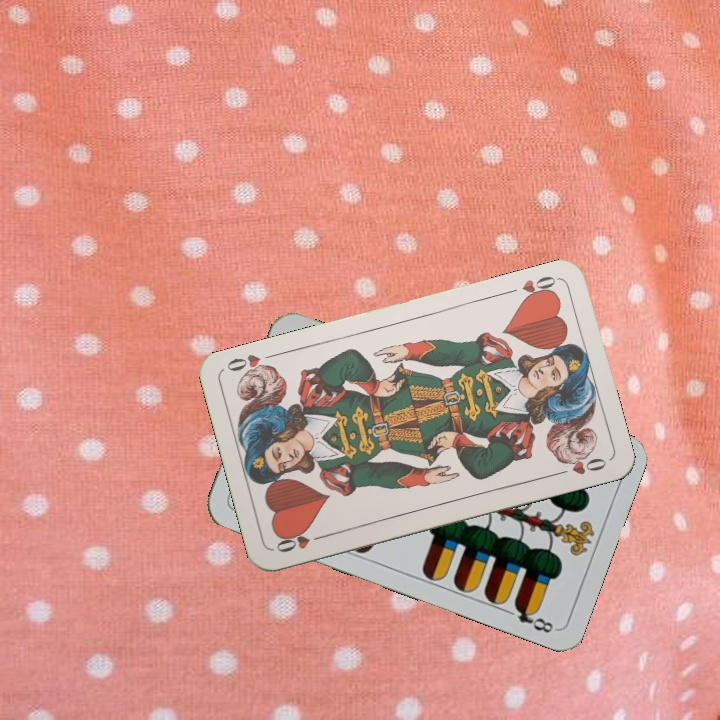HO: (502, 271, 560, 304), (271, 527, 329, 555)
